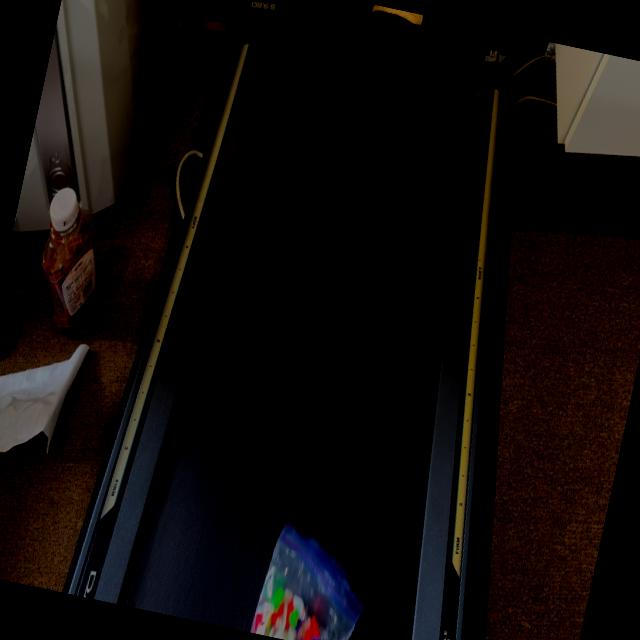Trash: (250, 521, 377, 640)
